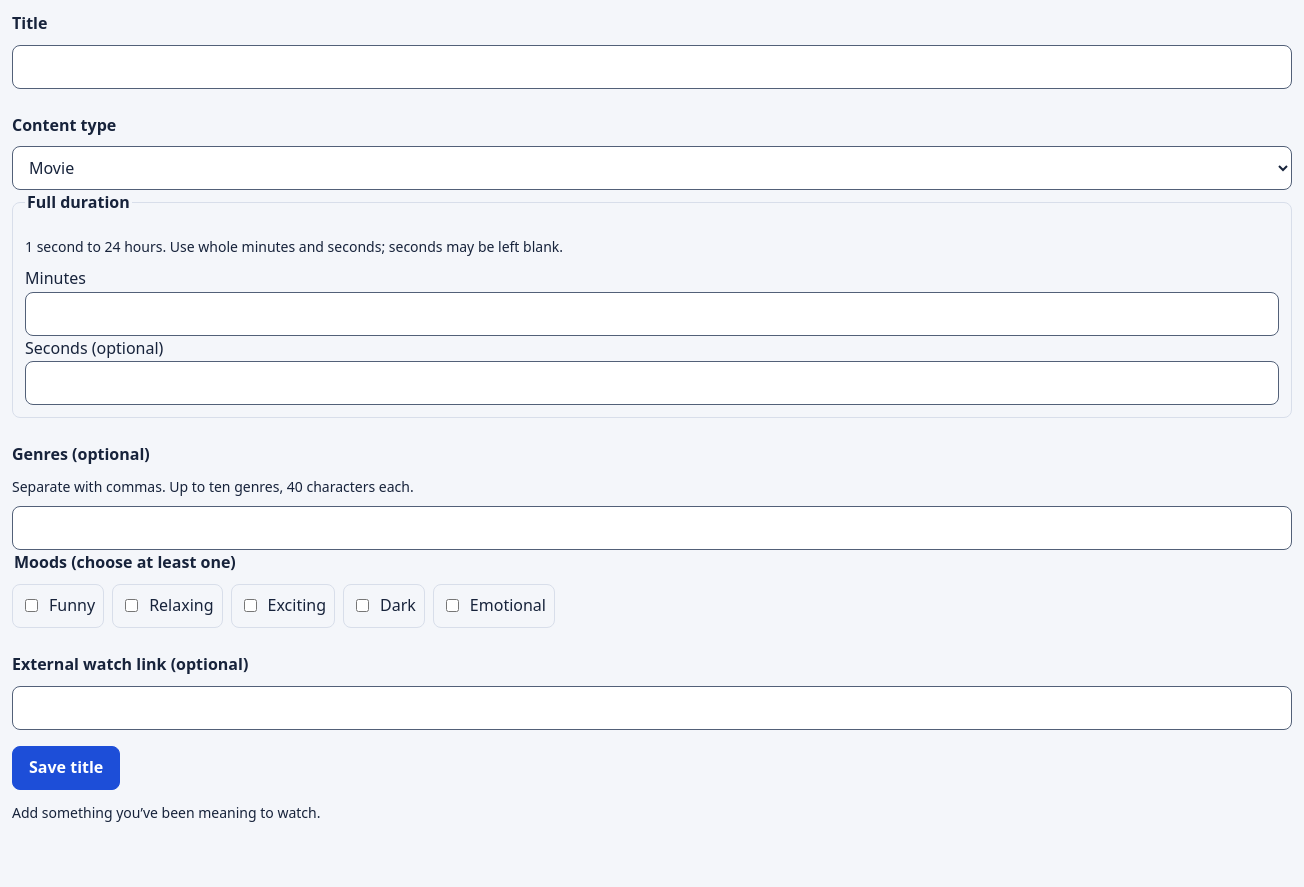
Test: offers explicit confirmation, cancels without submitting, preserves fields, and announces already-added
Type "Existing work" into the field labelled "Title" at (652, 67), box [12,45,1292,89]
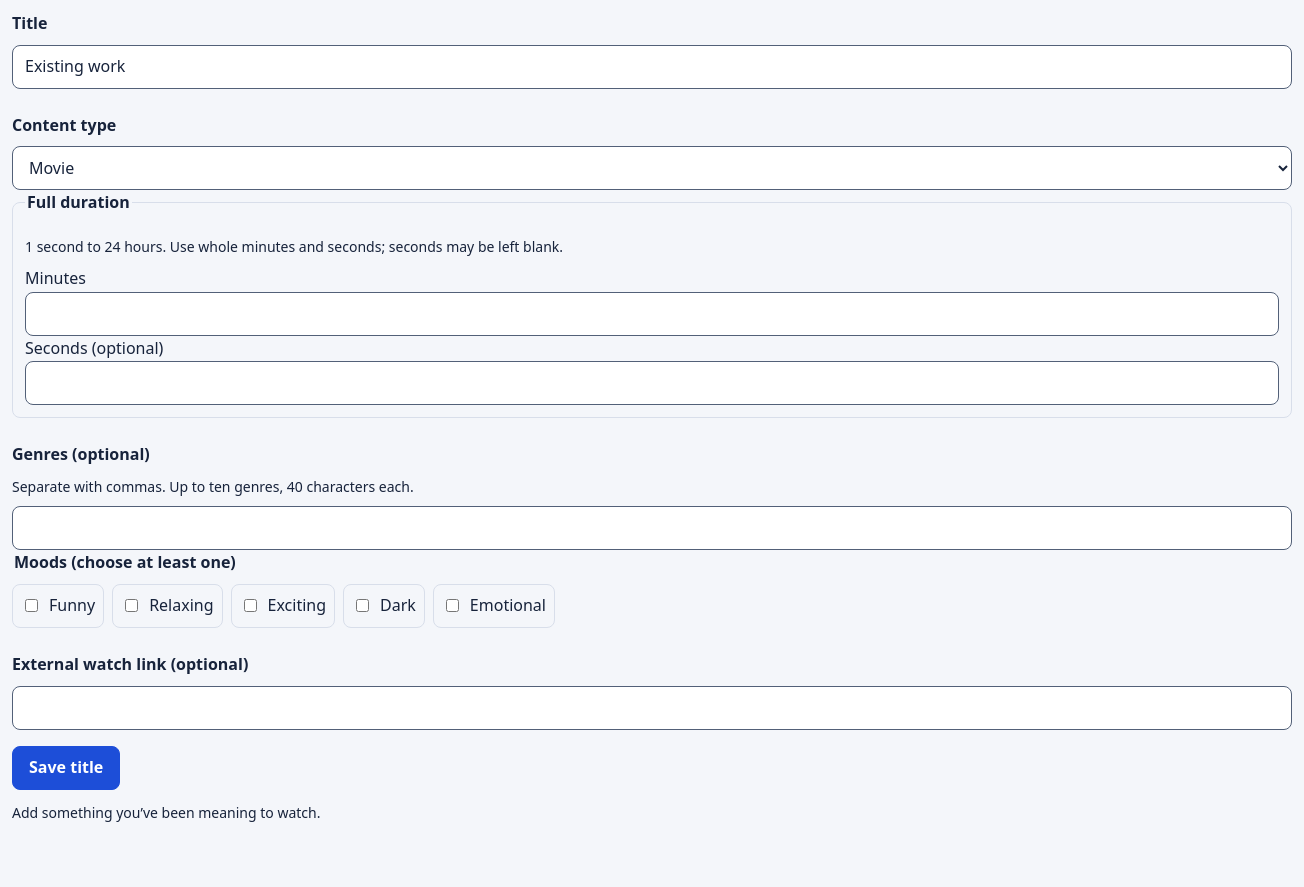
Click the checkbox labelled "Funny" at (32, 606), box [25,599,38,612]
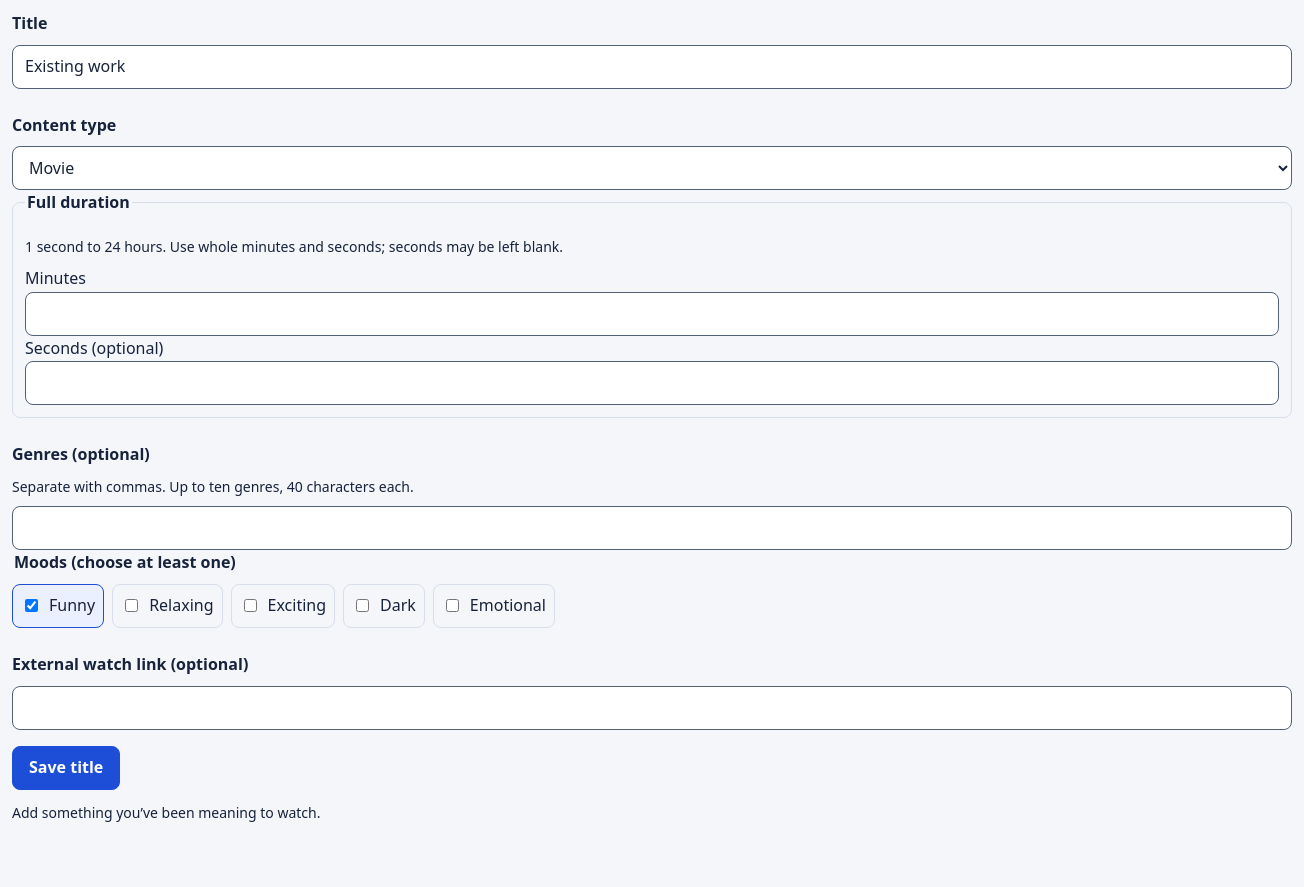
Click the button "Save title" at (66, 768), box [12,746,120,790]
(page scrolled)
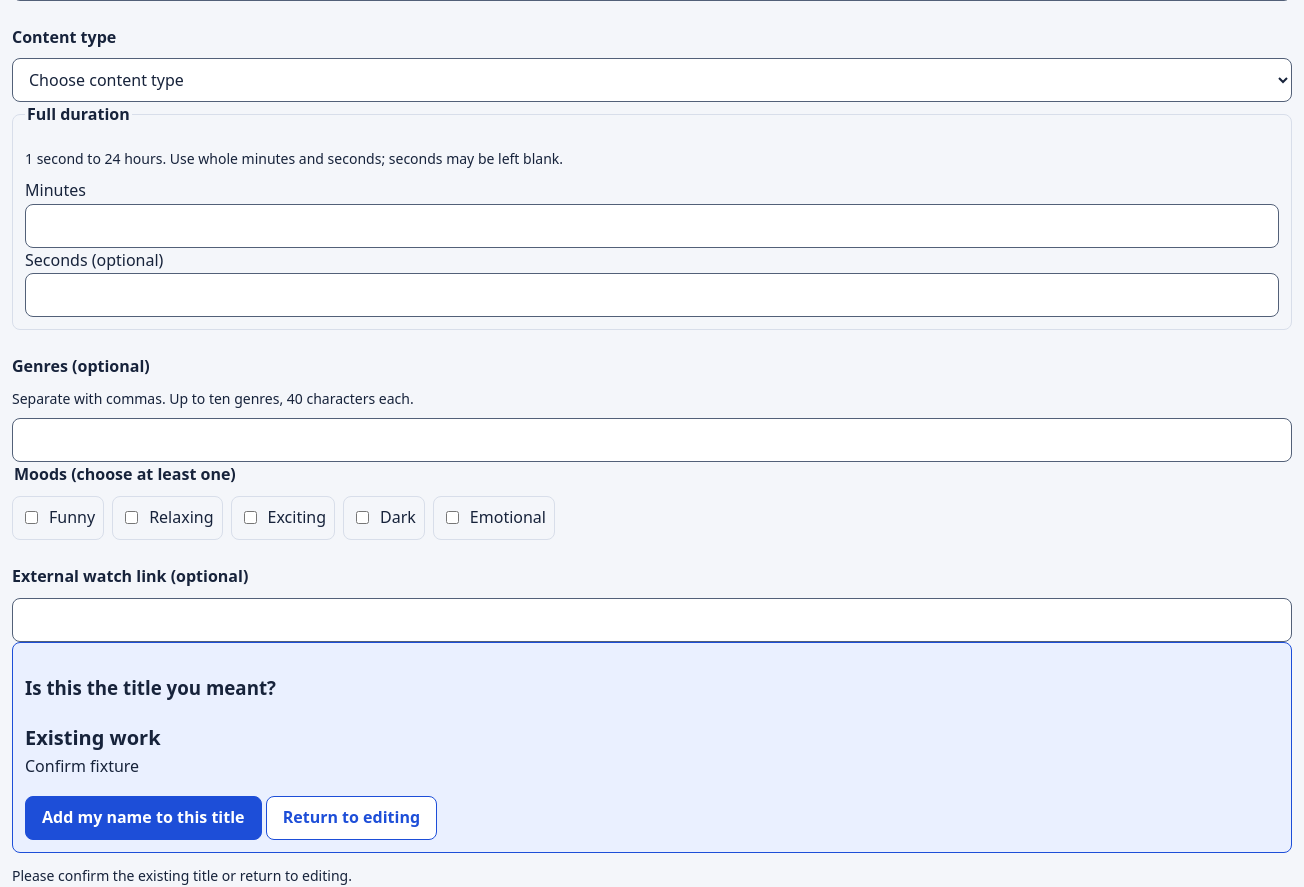
Expected: the button "Add my name to this title" is shown, [25,796,262,840]
Click the button "Return to editing" at (351, 818), box [266,796,437,840]
(page scrolled)
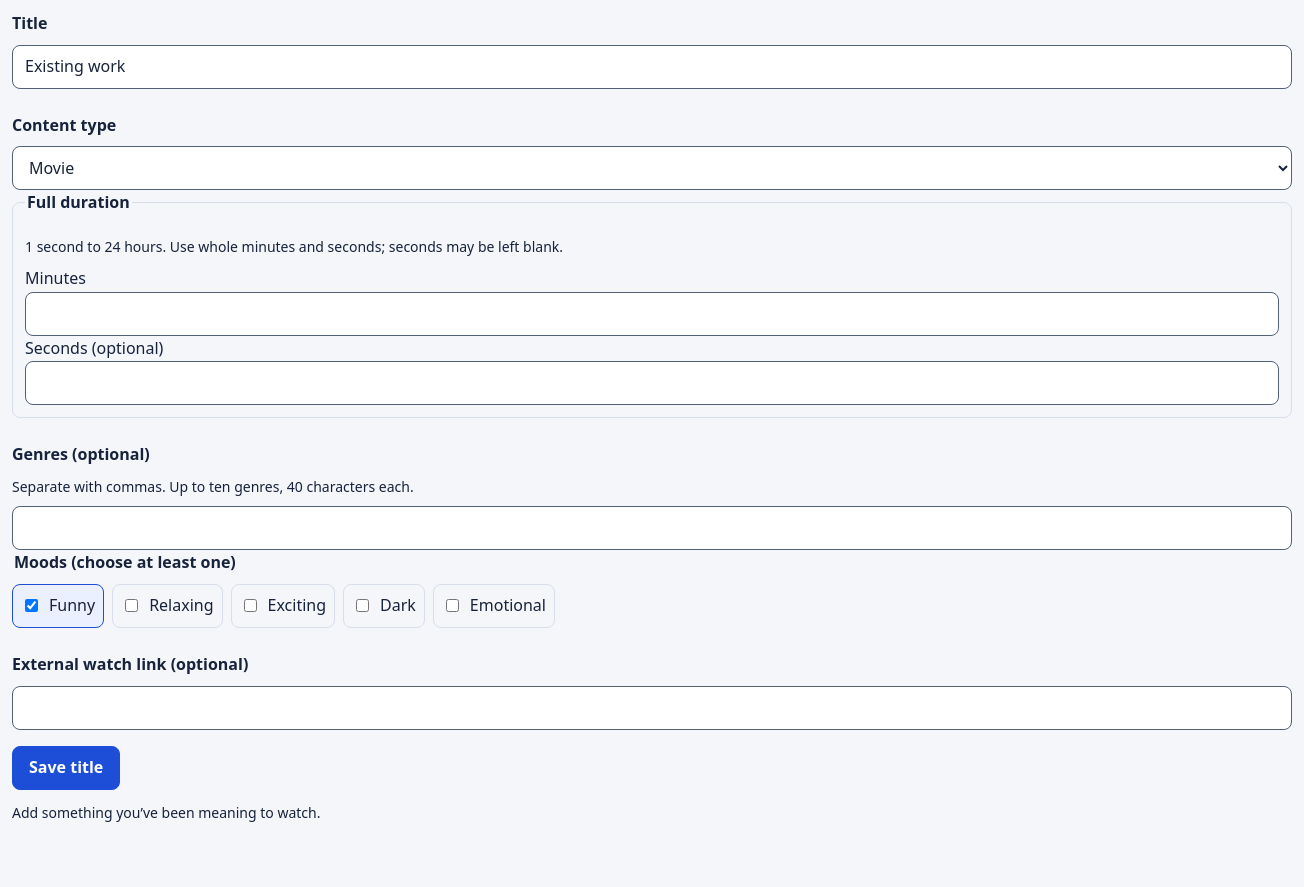
Expected: the checkbox labelled "Funny" is checked, [25,599,38,612]
Click the button "Save title" at (66, 768), box [12,746,120,790]
(page scrolled)
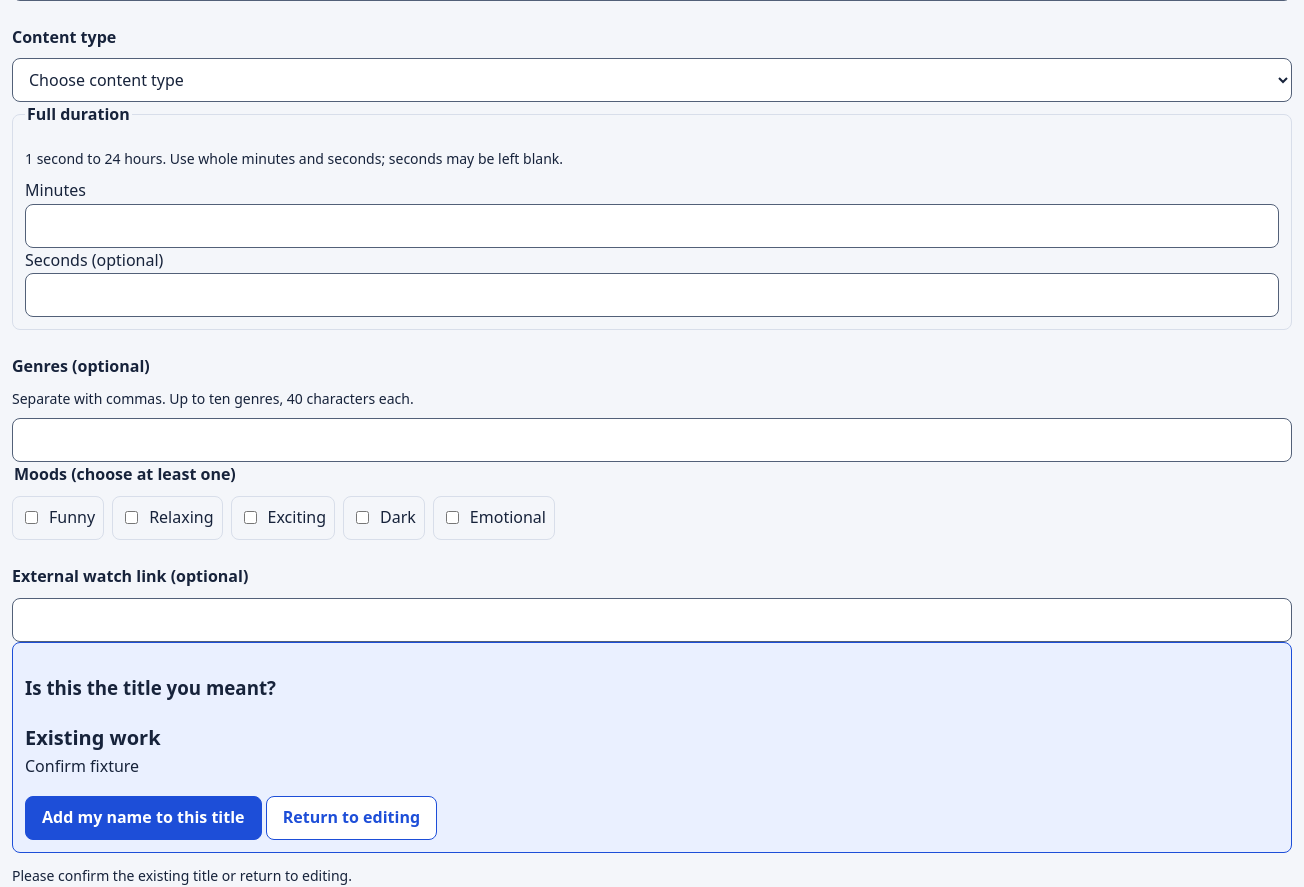
Click the button "Add my name to this title" at (143, 818), box [25,796,262,840]
(page scrolled)
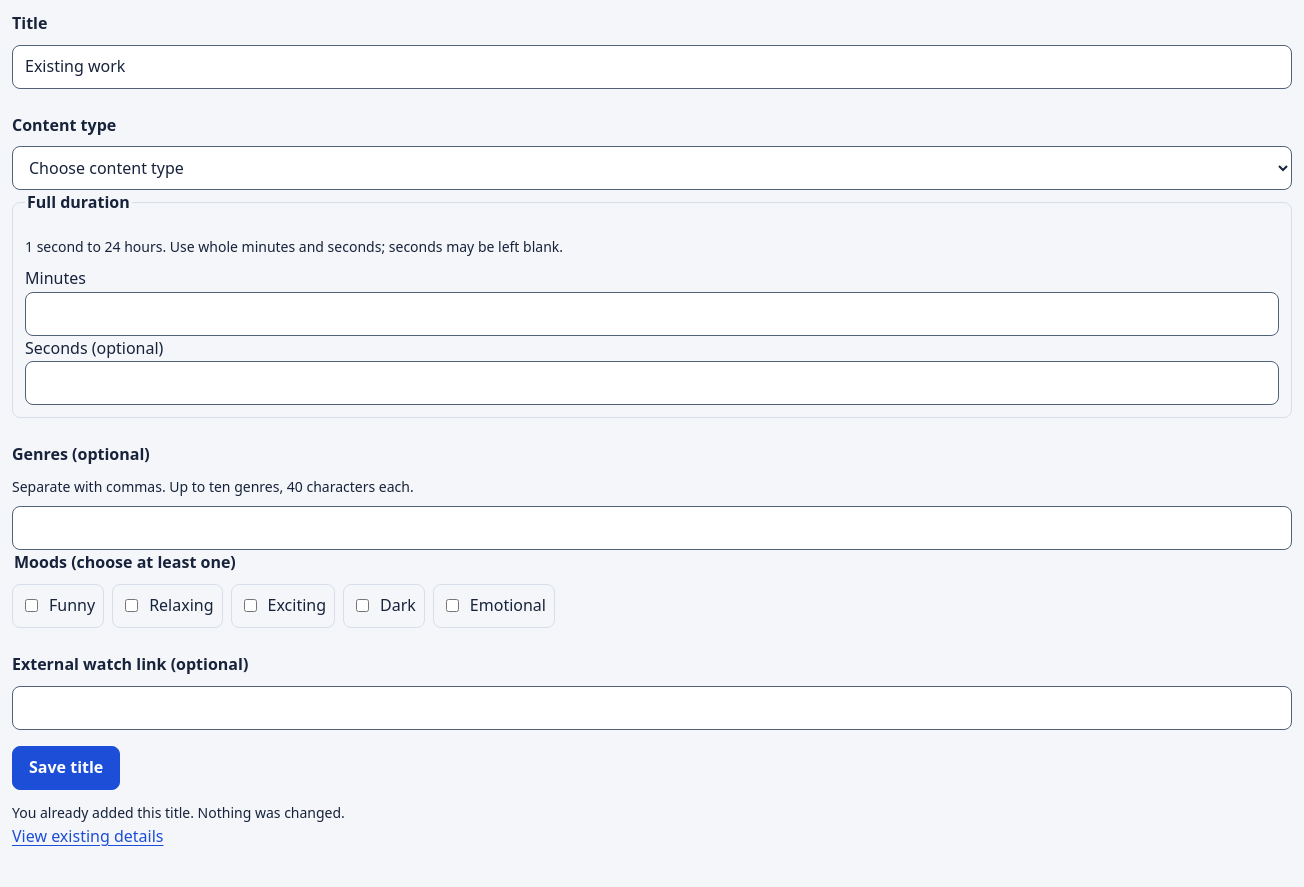
Expected: the text "You already added this title. Nothing was changed." is shown, [12,802,345,822]
